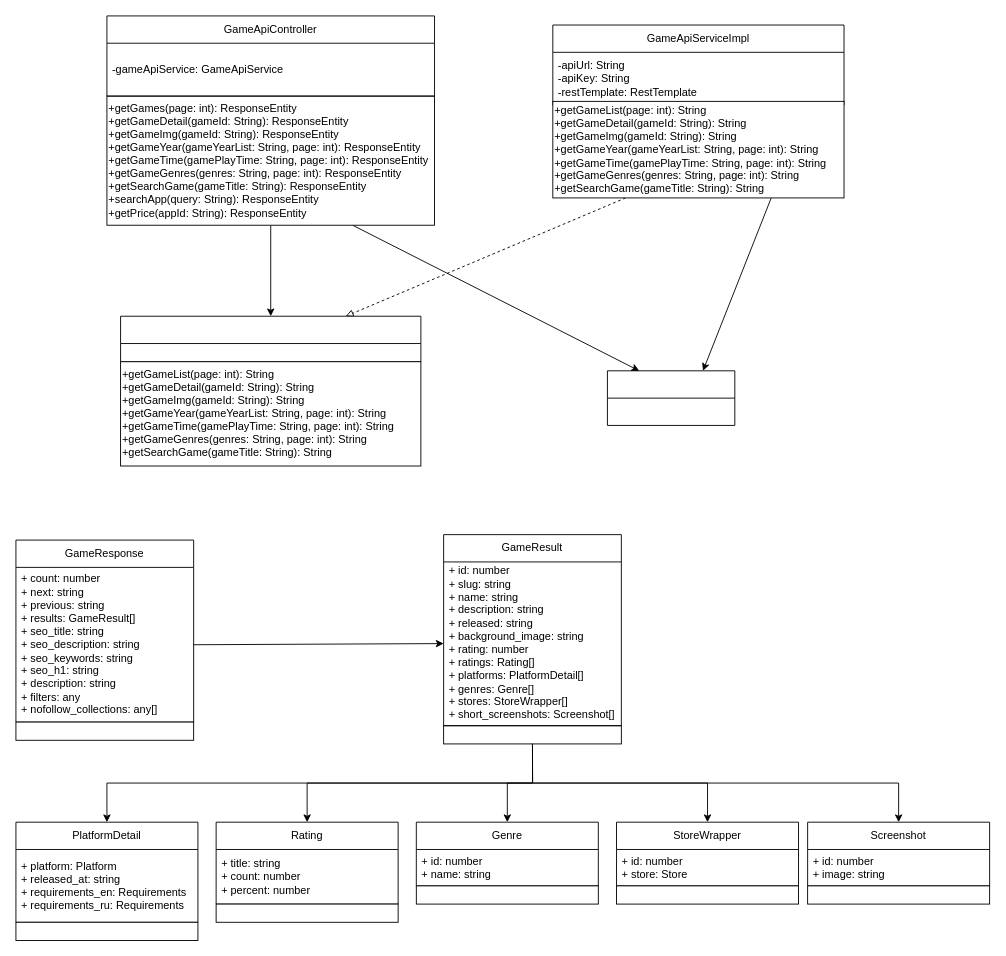
Image size: 1006x956. Some labels were removed from this diagram. Here are the shapes that lost their labels. From the top down, the centre of each, then its label:
At (x=270, y=338): "<<interface>> GameApiService".
At (x=671, y=397): "RestTemplate".
